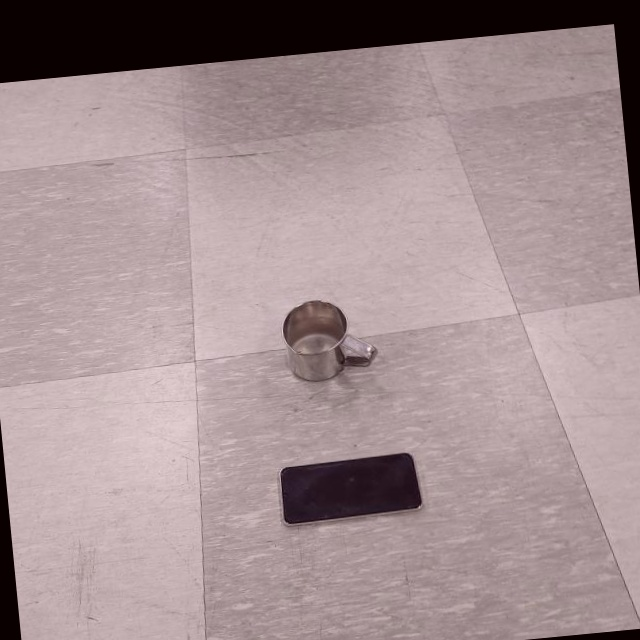cup: (280, 292, 379, 385)
phone: (279, 451, 425, 527)
